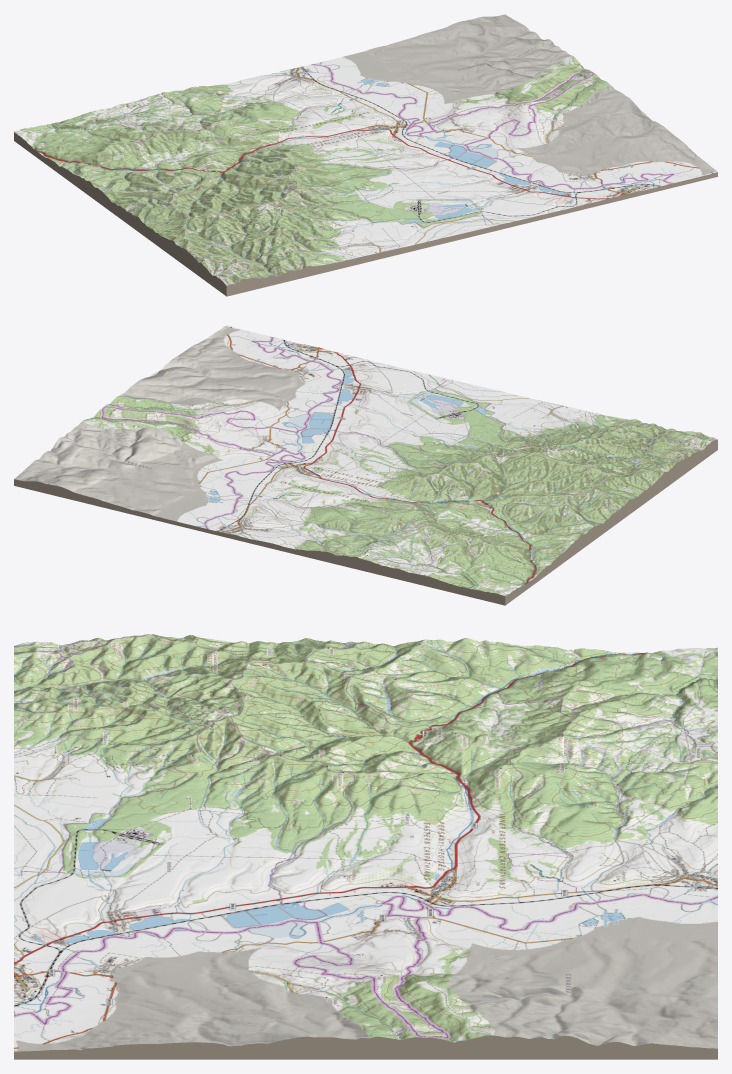
The picture shows the model from 3 angles, top to bottom: view 1: azimuth 30°, elevation 25°; view 2: azimuth 150°, elevation 25°; view 3: azimuth 270°, elevation 25°; orthographic projection. The views are drawn at different scales.
Parts seen in each view (by area): view 1: BV50-C4 Măieruș; view 2: BV50-C4 Măieruș; view 3: BV50-C4 Măieruș.
Part boxes in pixels (<box>): BV50-C4 Măieruș: <box>14,14,717,296</box>; BV50-C4 Măieruș: <box>14,325,717,605</box>; BV50-C4 Măieruș: <box>14,634,717,1059</box>.
Size of the model in its own units: 20000 by 781 by 15000.
Materials: 5 (1 with a texture image).
